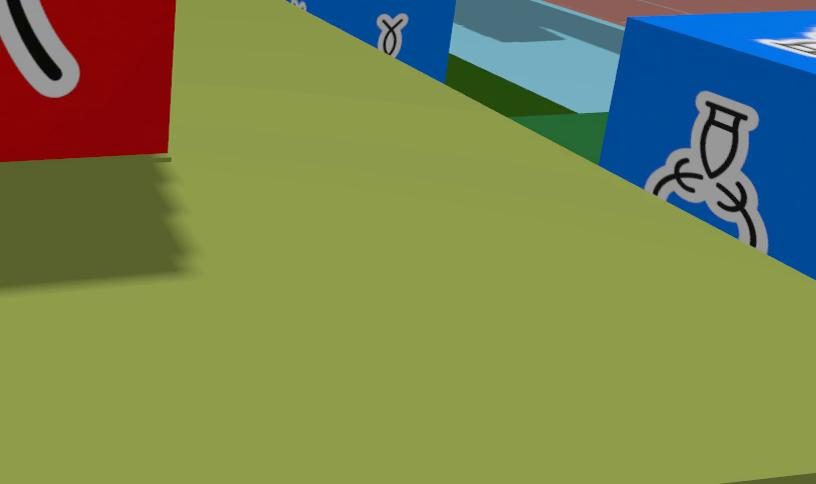KFS_FAKE: (0, 0, 175, 161), (0, 0, 78, 96)
KFS_REAL: (599, 9, 815, 276), (645, 92, 768, 253), (285, 0, 456, 80)
